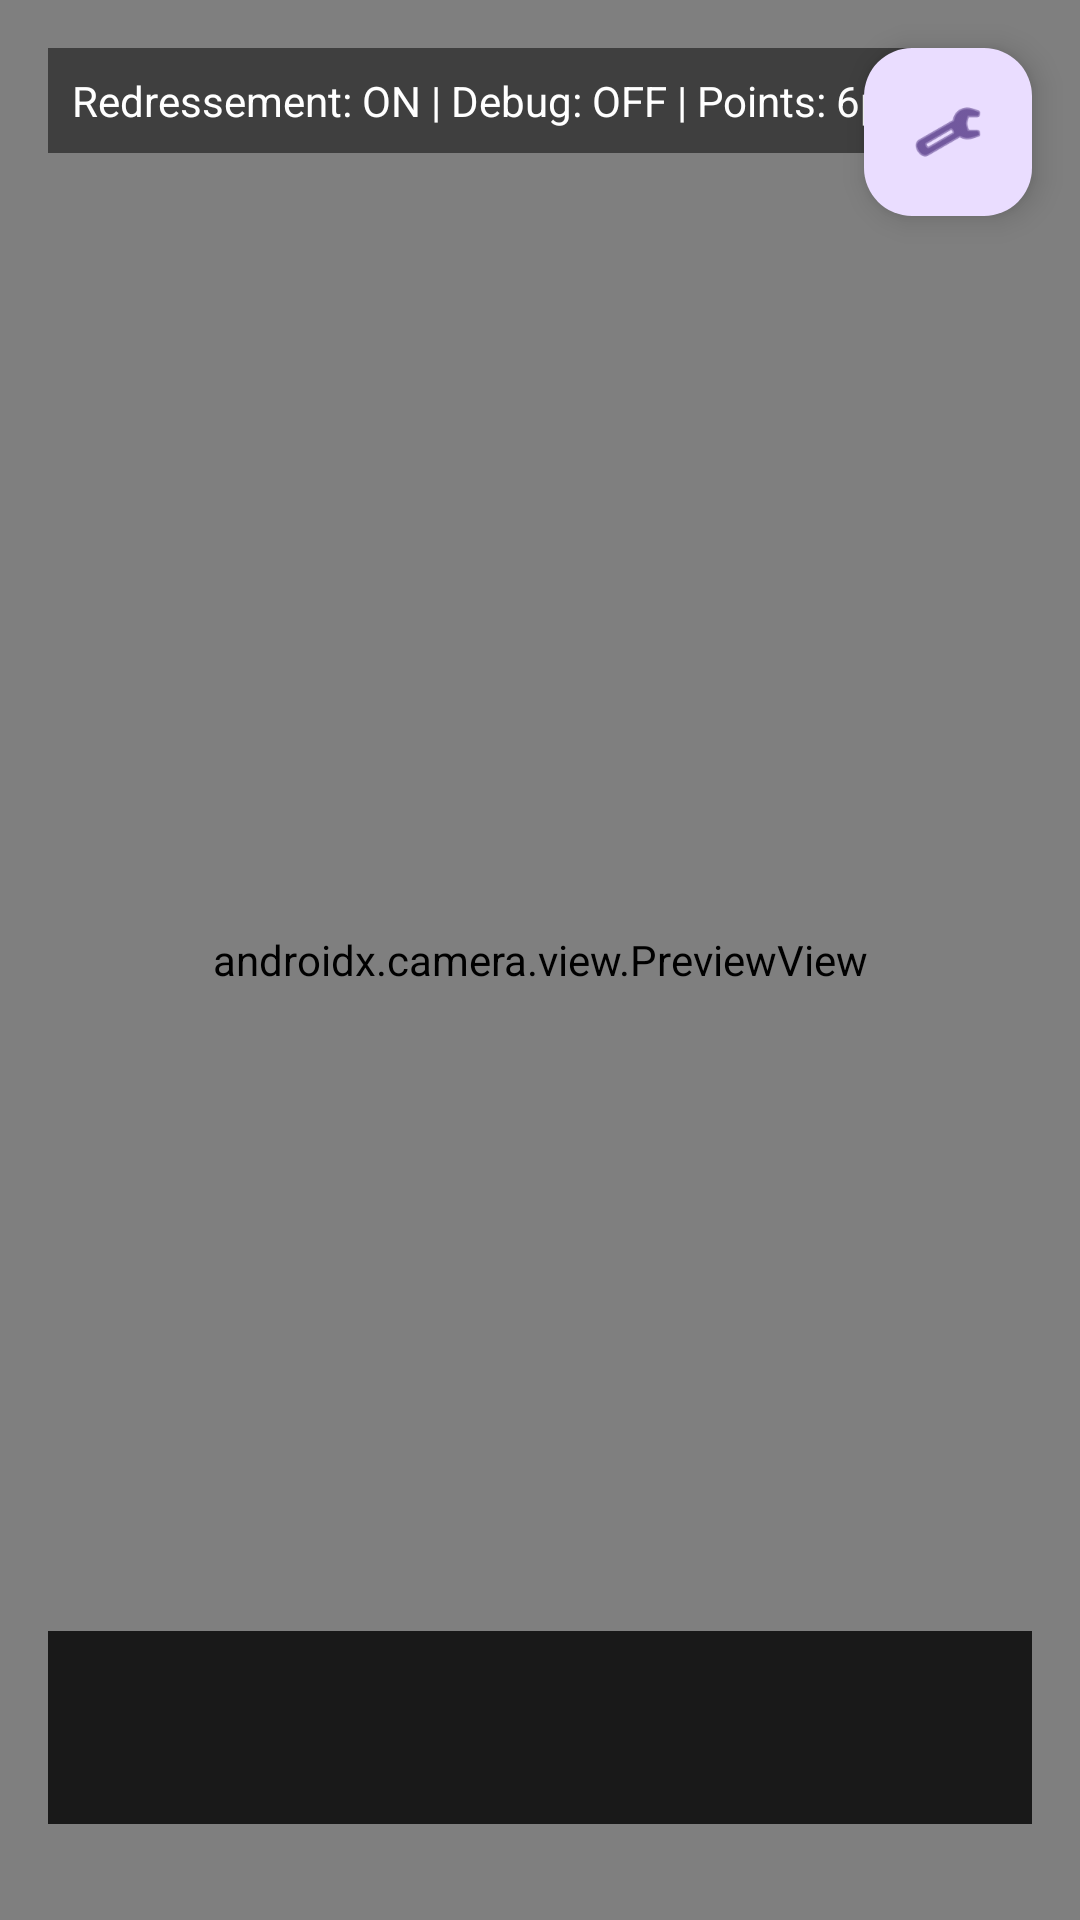

Icon click points for this 1080 × 1920 phone screenshot, format point (x, y):
Paramètres: point (948, 132)
